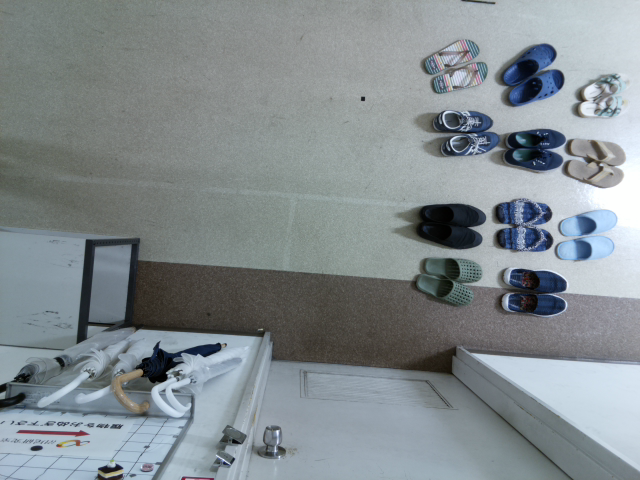Copy of Copy of Copy of Copy of Copy of Copy of Copy of Copy of Copy of Copy of: (497, 38, 561, 88), (504, 63, 568, 110), (428, 57, 495, 96), (416, 35, 483, 74), (562, 158, 631, 193), (498, 143, 567, 178), (436, 129, 505, 164), (429, 106, 498, 141), (500, 121, 569, 155), (568, 132, 636, 166), (572, 88, 631, 124), (575, 68, 633, 104)
Copy of Copy of Copy of Copy of Copy of Copy of Copy of Copy of Copy of shoe: (550, 232, 619, 266)
Copy of Copy of Copy of Copy of Copy of Copy of Copy of Copy of shoe: (552, 204, 620, 239)
Copy of Copy of Copy of Copy of Copy of Copy of Copy of shoe: (487, 224, 553, 254)
Copy of Copy of Copy of Copy of Copy of Copy of shoe: (489, 197, 556, 227)
Copy of Copy of Copy of Copy of Copy of shoe: (413, 219, 484, 250)
Copy of Copy of Copy of Copy of shoe: (416, 200, 487, 230)
Copy of Copy of Copy of shoe: (412, 271, 476, 311)
Copy of Copy of shoe: (419, 254, 484, 283)
Copy of shoe: (495, 265, 575, 295)
shoe: (493, 289, 573, 319)
